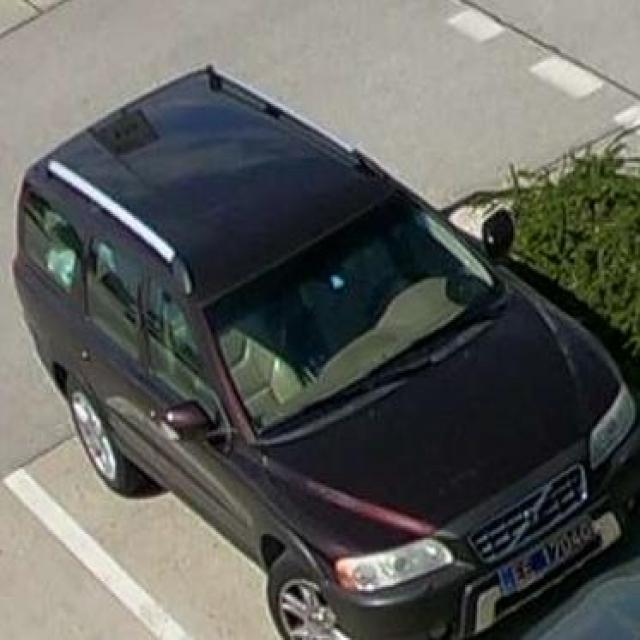Car: (0, 135, 610, 596)
